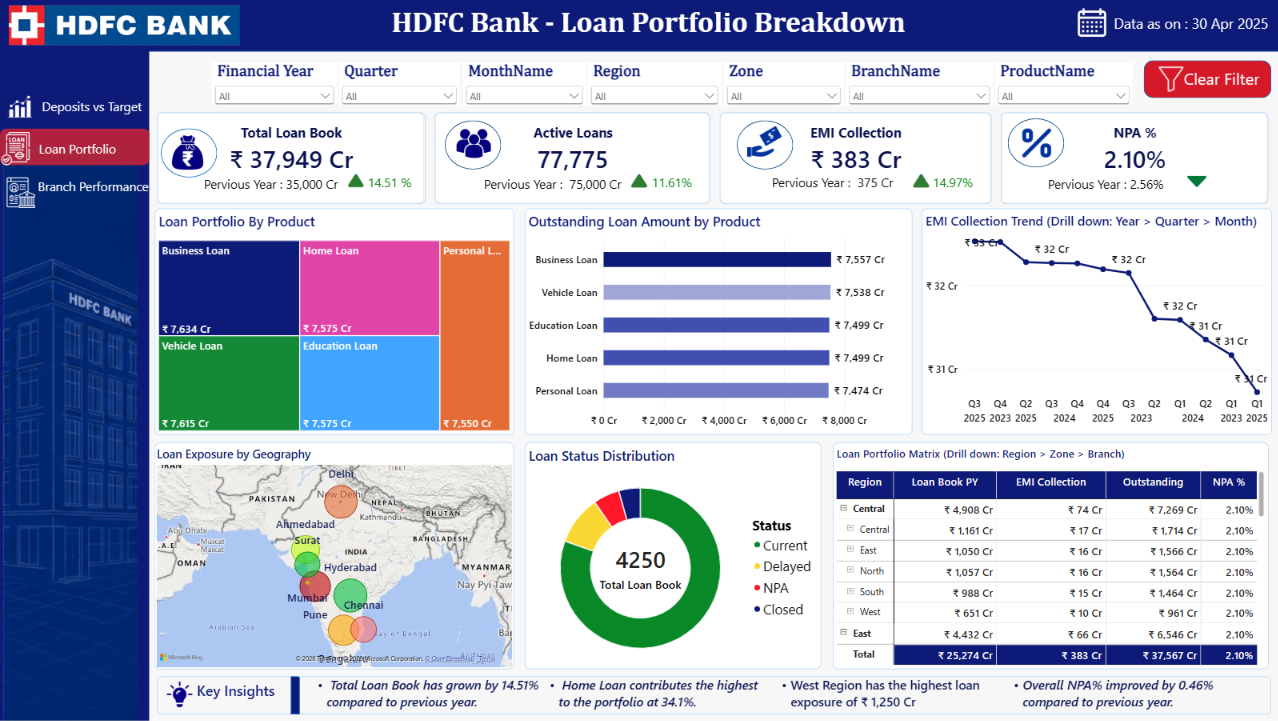

Layout of this report page (visuals, bound fields, positions):
{"tool":"powerbi","page":{"name":" Loan Portfolio","canvas":[1920,1080],"ordinal":1},"visuals":[{"type":"group","id":"g1","title":"Group 1","box":[8.8,0,1911.2,1080.3],"z":0},{"type":"shape","box":[8.8,0,1911.2,79.5],"z":0,"group":"g1"},{"type":"shape","box":[1717.9,92,190.2,56.1],"z":0,"group":"g8"},{"type":"slicer","fields":{"Values":["DimDate.Financial Year"]},"box":[327.4,95.1,187.1,62.4],"z":0,"group":"g2"},{"type":"group","id":"g2","title":"Group 2","box":[327.4,95.1,1374.9,63.9],"z":0,"group":"g11"},{"type":"actionButton","box":[9,129.9,223.9,55.2],"z":0,"group":"g3"},{"type":"group","id":"g3","title":"depo vs tar","box":[9,129.9,223.9,55.2],"z":0,"group":"g5"},{"type":"cardVisual","fields":{"Data":["Measure Table.Total Loan Book (₹ Cr)"]},"box":[244.7,170.3,400.6,137.2],"z":0,"group":"g4"},{"type":"group","id":"g4","title":"KPI 1","box":[244.7,170.3,400.6,137.2],"z":0,"group":"g13"},{"type":"cardVisual","fields":{"Data":["Measure Table.Active Loans"]},"box":[659.3,170.3,411.5,137.2],"z":0,"group":"g6"},{"type":"cardVisual","fields":{"Data":["Measure Table.EMI Collection"]},"box":[1084.8,170.3,405.3,137.2],"z":0,"group":"g9"},{"type":"cardVisual","fields":{"Data":["Measure Table.NPA %"]},"box":[1504.1,170.3,399.1,137.2],"z":0,"group":"g12"},{"type":"actionButton","box":[10.5,194.1,223.9,55.2],"z":0,"group":"g7"},{"type":"actionButton","box":[9,261.2,223.9,55.2],"z":0,"group":"g10"},{"type":"shape","box":[8.8,0,224.5,1080.3],"z":1000,"group":"g1"},{"type":"slicer","fields":{"Values":["DimDate.Quarter"]},"box":[517.6,95.1,180.8,63.9],"z":1000,"group":"g2"},{"type":"image","box":[1739.7,96.7,37.4,46.8],"z":1000,"group":"g8"},{"type":"group","id":"g5","title":"page pane","box":[9,129.9,235.4,186.6],"z":1000},{"type":"textbox","box":[72.7,148.1,151.2,26.5],"z":1000,"group":"g3"},{"type":"group","id":"g6","title":"KPI 2","box":[659.3,170.3,411.5,137.2],"z":1000,"group":"g13"},{"type":"group","id":"g7","title":"loan","box":[9,194.1,225.4,58.1],"z":1000,"group":"g5"},{"type":"image","box":[9,197.6,49.9,54.6],"z":1000,"group":"g7"},{"type":"textbox","box":[1140.7,261.2,225.7,27.1],"z":1000,"group":"g9"},{"type":"textbox","box":[315.2,263.9,206.3,25.8],"z":1000,"group":"g4"},{"type":"textbox","box":[731.7,263.9,212,25.8],"z":1000,"group":"g6"},{"type":"textbox","box":[1574.3,263.9,205.5,25.8],"z":1000,"group":"g12"},{"type":"image","box":[18.4,267.3,48.3,45.2],"z":1000,"group":"g10"},{"type":"image","box":[24.4,10.9,344.5,59.2],"z":2000,"group":"g1"},{"type":"group","id":"g8","title":"clear filter","box":[1717.9,89.4,191.2,60.6],"z":2000},{"type":"slicer","fields":{"Values":["DimDate.MonthName"]},"box":[701.5,95.1,184,63.9],"z":2000,"group":"g2"},{"type":"textbox","box":[1777.1,102.9,130.9,32.7],"z":2000,"group":"g8"},{"type":"image","box":[15,140.3,51.4,42.1],"z":2000,"group":"g3"},{"type":"group","id":"g9","title":"KPI 3","box":[1084.8,170.3,405.3,137.2],"z":2000,"group":"g13"},{"type":"textbox","box":[68.2,211.6,127.8,28.1],"z":2000,"group":"g7"},{"type":"image","box":[1778.2,257,35.7,32.9],"z":2000,"group":"g12"},{"type":"textbox","box":[559.4,260.7,72.2,29.1],"z":2000,"group":"g4"},{"type":"textbox","box":[982.5,260.7,74.2,29.1],"z":2000,"group":"g6"},{"type":"textbox","box":[1403.1,260.7,73.1,29.1],"z":2000,"group":"g9"},{"type":"group","id":"g10","title":"branch","box":[9,261.2,235.4,55.2],"z":2000,"group":"g5"},{"type":"textbox","box":[66.7,267.3,177.7,29.6],"z":2000,"group":"g10"},{"type":"actionButton","box":[1718.2,89.4,190.9,60.6],"z":2500,"group":"g8"},{"type":"textbox","box":[484.3,9.4,986.8,60.8],"z":3000,"group":"g1"},{"type":"group","id":"g11","title":"slicer","box":[327.4,95.1,1374.9,63.9],"z":3000},{"type":"slicer","fields":{"Values":["DimBranch.Region"]},"box":[888.6,95.1,199.5,63.9],"z":3000,"group":"g2"},{"type":"group","id":"g12","title":"KPI 4","box":[1504.1,170.3,399.1,137.2],"z":3000,"group":"g13"},{"type":"shape","box":[1515.2,179.2,84.2,73.3],"z":3000,"group":"g12"},{"type":"image","box":[528.4,255.8,27.5,33.9],"z":3000,"group":"g4"},{"type":"image","box":[950.7,255.8,28.3,33.9],"z":3000,"group":"g6"},{"type":"image","box":[1371.8,255.8,27.8,33.9],"z":3000,"group":"g9"},{"type":"textbox","box":[1673.7,21.8,233.8,35.9],"z":4000,"group":"g1"},{"type":"slicer","fields":{"Values":["DimBranch.Zone"]},"box":[1091.3,95.1,179.3,63.9],"z":4000,"group":"g2"},{"type":"shape","box":[675,182.4,84.2,73.3],"z":4000,"group":"g6"},{"type":"shape","box":[1109.9,182.4,84.2,73.3],"z":4000,"group":"g9"},{"type":"image","box":[1526.1,191.7,62.4,49.9],"z":4000,"group":"g12"},{"type":"shape","box":[250,194.2,84.2,73.3],"z":4000,"group":"g4"},{"type":"textbox","box":[1814.3,258.6,72.9,27.1],"z":4000},{"type":"image","box":[1619.1,15.6,42.1,42.1],"z":5000,"group":"g1"},{"type":"slicer","fields":{"Values":["DimBranch.BranchName"]},"box":[1273.7,95.1,219.8,63.9],"z":5000,"group":"g2"},{"type":"image","box":[1114.6,179.2,73.3,68.6],"z":5000,"group":"g9"},{"type":"image","box":[685.9,191.7,62.4,51.4],"z":5000,"group":"g6"},{"type":"image","box":[260,204.2,62.4,51.4],"z":5000,"group":"g4"},{"type":"treemap","title":"Loan Portfolio By Product ","fields":{"Group":["DimProduct.ProductName"],"Values":["Measure Table.Total Loan Book"]},"box":[241.6,313.3,536.3,338.3],"z":5000},{"type":"slicer","fields":{"Values":["DimProduct.ProductName"]},"box":[1496.6,95.1,205.8,63.9],"z":6000,"group":"g2"},{"type":"image","box":[8.8,222.9,213.6,857.4],"z":6000,"group":"g1"},{"type":"clusteredBarChart","title":"Outstanding Loan Amount by Product","fields":{"Category":["DimProduct.ProductName"],"Y":["Measure Table.Outstanding"]},"box":[793.5,313.3,578.4,338.3],"z":6000},{"type":"lineChart","title":"EMI Collection Trend (Drill down: Year > Quarter > Month)","fields":{"Category":["DimDate.Year","DimDate.Quarter","DimDate.Month"],"Y":["Measure Table.EMI Collection"]},"box":[1385.9,313.3,522.2,338.3],"z":7000},{"type":"map","title":"Loan Exposure by Geography","fields":{"Category":["DimBranch.City"],"Size":["Measure Table.Total Loan Book"]},"box":[241.6,662.5,536.3,338.3],"z":8000},{"type":"donutChart","title":"Loan Status Distribution","fields":{"Category":["LoanStatusData.Status"],"Y":["Sum(LoanStatusData.Amount_Cr)"]},"box":[793.5,662.5,442.7,338.3],"z":9000},{"type":"pivotTable","title":"Loan Portfolio Matrix (Drill down: Region > Zone > Branch)","fields":{"Rows":["DimBranch.Region","DimBranch.Zone","DimBranch.BranchName"],"Values":["Measure Table.Loan Book PY","Measure Table.EMI Collection","Measure Table.Outstanding","Measure Table.NPA %"]},"box":[1253.4,662.5,650.1,338.3],"z":10000},{"type":"textbox","box":[245,1011.7,1663.3,56.7],"z":11000},{"type":"image","box":[260,1018.3,38.3,41.7],"z":12000},{"type":"textbox","box":[305,1018.3,130,41.7],"z":13000},{"type":"shape","box":[445,1011.7,13.3,56.7],"z":14000},{"type":"textbox","box":[470,1011.7,348.3,56.7],"z":15000},{"type":"textbox","box":[816.7,1011.7,335,56.7],"z":16000},{"type":"textbox","box":[1163.3,1011.7,326.7,56.7],"z":17000},{"type":"textbox","box":[1508.3,1011.7,398.3,56.7],"z":18000},{"type":"group","id":"g13","title":"ALL KPI","box":[244.7,170.3,1658.5,137.2],"z":19000}]}

Visuals, with their boxes on the page's 1920x1080 design canvas (x1, y1, x2, y2). These are canvas units, not pixel positions in the 1278x721 screenshot, which may show the page scaled, cropped or inside an application window:
"Group 1" group: x1=9, y1=0, x2=1920, y2=1080
shape: x1=9, y1=0, x2=1920, y2=80
shape: x1=1718, y1=92, x2=1908, y2=148
slicer - DimDate.Financial Year: x1=327, y1=95, x2=514, y2=158
"Group 2" group: x1=327, y1=95, x2=1702, y2=159
actionButton: x1=9, y1=130, x2=233, y2=185
"depo vs tar" group: x1=9, y1=130, x2=233, y2=185
cardVisual - Measure Table.Total Loan Book (₹ Cr): x1=245, y1=170, x2=645, y2=308
"KPI 1" group: x1=245, y1=170, x2=645, y2=308
cardVisual - Measure Table.Active Loans: x1=659, y1=170, x2=1071, y2=308
cardVisual - Measure Table.EMI Collection: x1=1085, y1=170, x2=1490, y2=308
cardVisual - Measure Table.NPA %: x1=1504, y1=170, x2=1903, y2=308
actionButton: x1=10, y1=194, x2=234, y2=249
actionButton: x1=9, y1=261, x2=233, y2=316
shape: x1=9, y1=0, x2=233, y2=1080
slicer - DimDate.Quarter: x1=518, y1=95, x2=698, y2=159
image: x1=1740, y1=97, x2=1777, y2=144
"page pane" group: x1=9, y1=130, x2=244, y2=316
textbox: x1=73, y1=148, x2=224, y2=175
"KPI 2" group: x1=659, y1=170, x2=1071, y2=308
"loan" group: x1=9, y1=194, x2=234, y2=252
image: x1=9, y1=198, x2=59, y2=252
textbox: x1=1141, y1=261, x2=1366, y2=288
textbox: x1=315, y1=264, x2=522, y2=290
textbox: x1=732, y1=264, x2=944, y2=290
textbox: x1=1574, y1=264, x2=1780, y2=290
image: x1=18, y1=267, x2=67, y2=312
image: x1=24, y1=11, x2=369, y2=70
"clear filter" group: x1=1718, y1=89, x2=1909, y2=150
slicer - DimDate.MonthName: x1=702, y1=95, x2=886, y2=159
textbox: x1=1777, y1=103, x2=1908, y2=136
image: x1=15, y1=140, x2=66, y2=182
"KPI 3" group: x1=1085, y1=170, x2=1490, y2=308
textbox: x1=68, y1=212, x2=196, y2=240
image: x1=1778, y1=257, x2=1814, y2=290
textbox: x1=559, y1=261, x2=632, y2=290
textbox: x1=982, y1=261, x2=1057, y2=290
textbox: x1=1403, y1=261, x2=1476, y2=290
"branch" group: x1=9, y1=261, x2=244, y2=316
textbox: x1=67, y1=267, x2=244, y2=297
actionButton: x1=1718, y1=89, x2=1909, y2=150
textbox: x1=484, y1=9, x2=1471, y2=70
"slicer" group: x1=327, y1=95, x2=1702, y2=159
slicer - DimBranch.Region: x1=889, y1=95, x2=1088, y2=159
"KPI 4" group: x1=1504, y1=170, x2=1903, y2=308
shape: x1=1515, y1=179, x2=1599, y2=252
image: x1=528, y1=256, x2=556, y2=290
image: x1=951, y1=256, x2=979, y2=290
image: x1=1372, y1=256, x2=1400, y2=290
textbox: x1=1674, y1=22, x2=1908, y2=58
slicer - DimBranch.Zone: x1=1091, y1=95, x2=1271, y2=159
shape: x1=675, y1=182, x2=759, y2=256
shape: x1=1110, y1=182, x2=1194, y2=256
image: x1=1526, y1=192, x2=1588, y2=242
shape: x1=250, y1=194, x2=334, y2=268
textbox: x1=1814, y1=259, x2=1887, y2=286
image: x1=1619, y1=16, x2=1661, y2=58
slicer - DimBranch.BranchName: x1=1274, y1=95, x2=1494, y2=159
image: x1=1115, y1=179, x2=1188, y2=248
image: x1=686, y1=192, x2=748, y2=243
image: x1=260, y1=204, x2=322, y2=256
"Loan Portfolio By Product " treemap: x1=242, y1=313, x2=778, y2=652
slicer - DimProduct.ProductName: x1=1497, y1=95, x2=1702, y2=159
image: x1=9, y1=223, x2=222, y2=1080
"Outstanding Loan Amount by Product" clusteredBarChart: x1=794, y1=313, x2=1372, y2=652
"EMI Collection Trend (Drill down: Year > Quarter > Month)" lineChart: x1=1386, y1=313, x2=1908, y2=652
"Loan Exposure by Geography" map: x1=242, y1=662, x2=778, y2=1001
"Loan Status Distribution" donutChart: x1=794, y1=662, x2=1236, y2=1001
"Loan Portfolio Matrix (Drill down: Region > Zone > Branch)" pivotTable: x1=1253, y1=662, x2=1904, y2=1001
textbox: x1=245, y1=1012, x2=1908, y2=1068
image: x1=260, y1=1018, x2=298, y2=1060
textbox: x1=305, y1=1018, x2=435, y2=1060
shape: x1=445, y1=1012, x2=458, y2=1068
textbox: x1=470, y1=1012, x2=818, y2=1068
textbox: x1=817, y1=1012, x2=1152, y2=1068
textbox: x1=1163, y1=1012, x2=1490, y2=1068
textbox: x1=1508, y1=1012, x2=1907, y2=1068
"ALL KPI" group: x1=245, y1=170, x2=1903, y2=308
